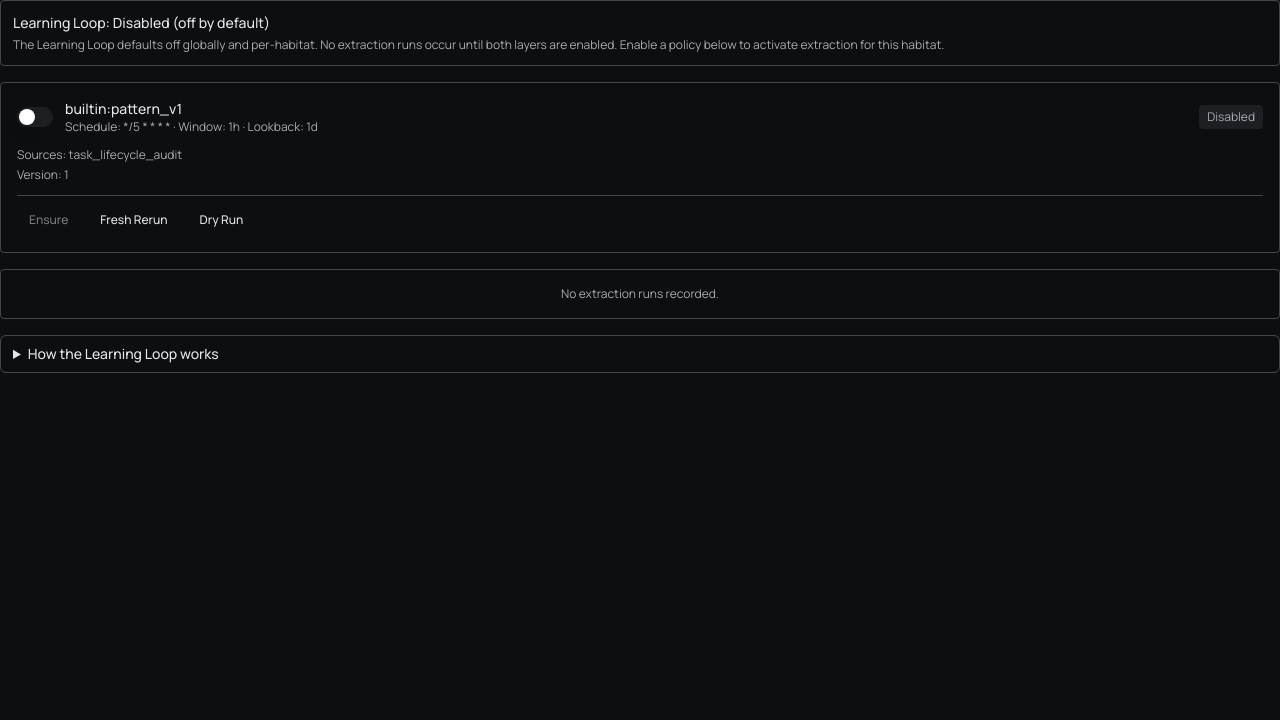
LearningLoopTab › fresh rerun available when policy is disabled (supersedes existing work)
expect the text "builtin:pattern_v1" is shown: met, box [65,99,182,118]
// Fresh Rerun is NOT guarded by policy.enabled — it always works
Click the button with aria-label "Fresh rerun for builtin:pattern_v1" at (134, 220), box [88,204,180,236]
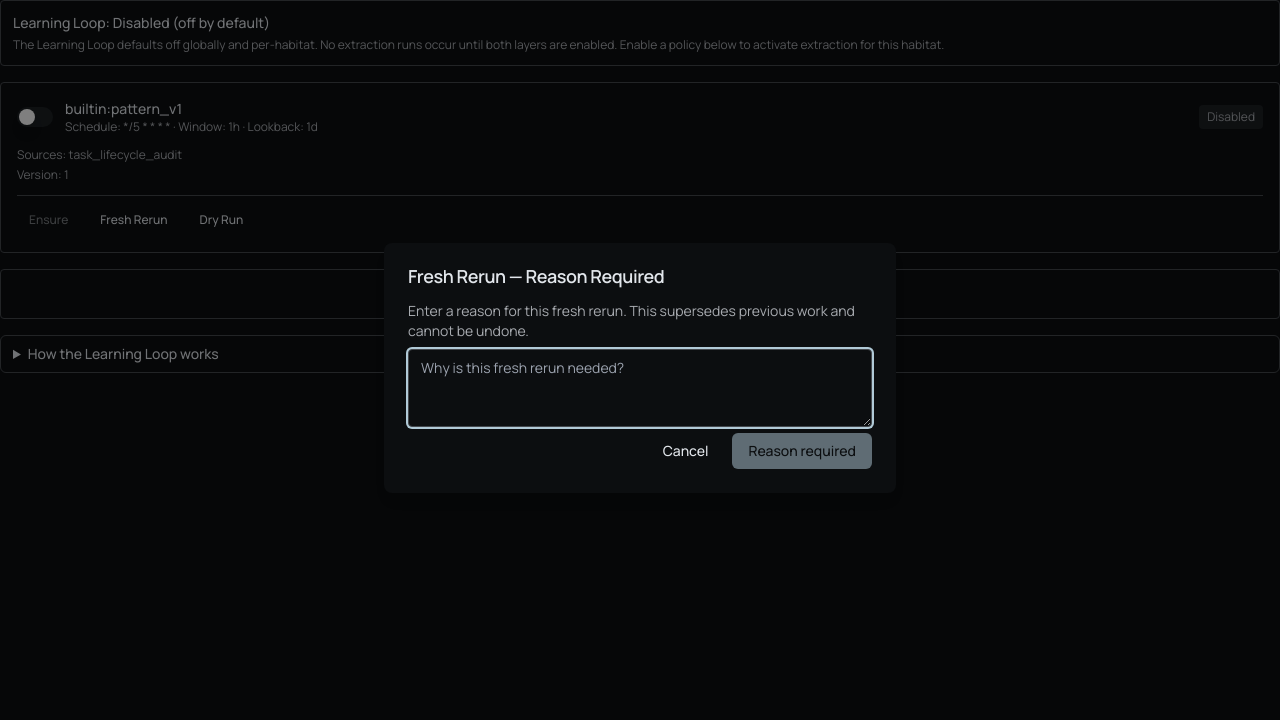
expect the text box named "Fresh rerun reason" is shown: met, box [408,349,872,427]
